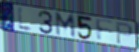3: (37, 10, 54, 36)
5: (76, 14, 94, 41)
F: (94, 18, 115, 43)
L: (17, 5, 35, 34)
M: (54, 11, 77, 40)
P: (115, 21, 134, 45)
